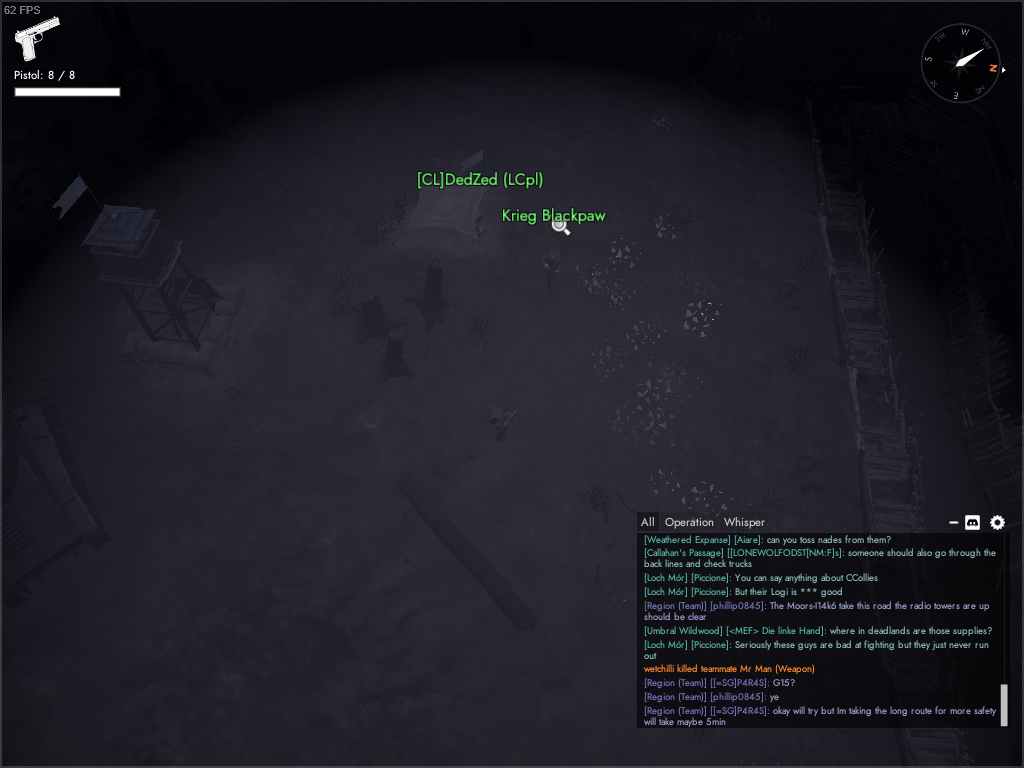foxhole: (391, 171, 509, 259)
player: (487, 404, 517, 443), (537, 250, 561, 295)
watchtower: (51, 172, 244, 377)
